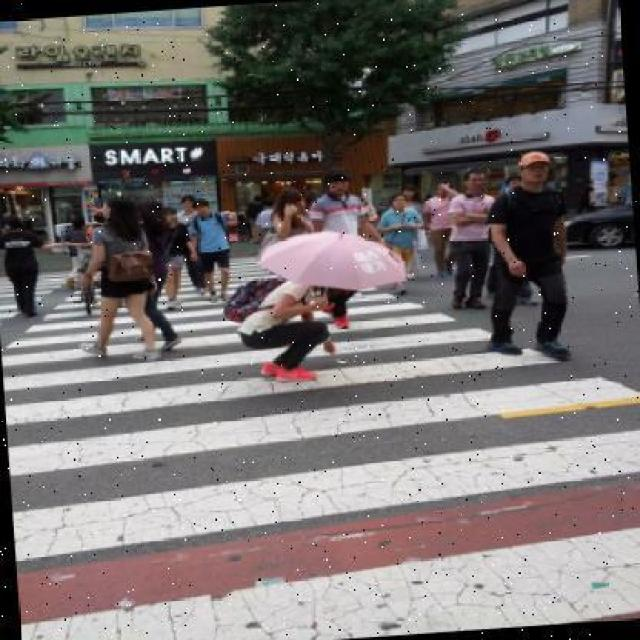Person: (486, 148, 580, 362), (71, 193, 167, 364), (223, 261, 346, 385), (307, 164, 393, 330), (444, 168, 502, 308), (185, 198, 242, 305), (380, 192, 426, 296)
